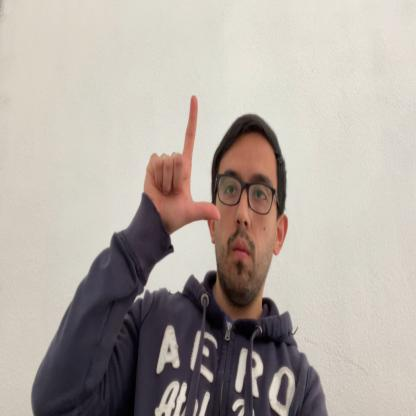L: (144, 94, 222, 228)
